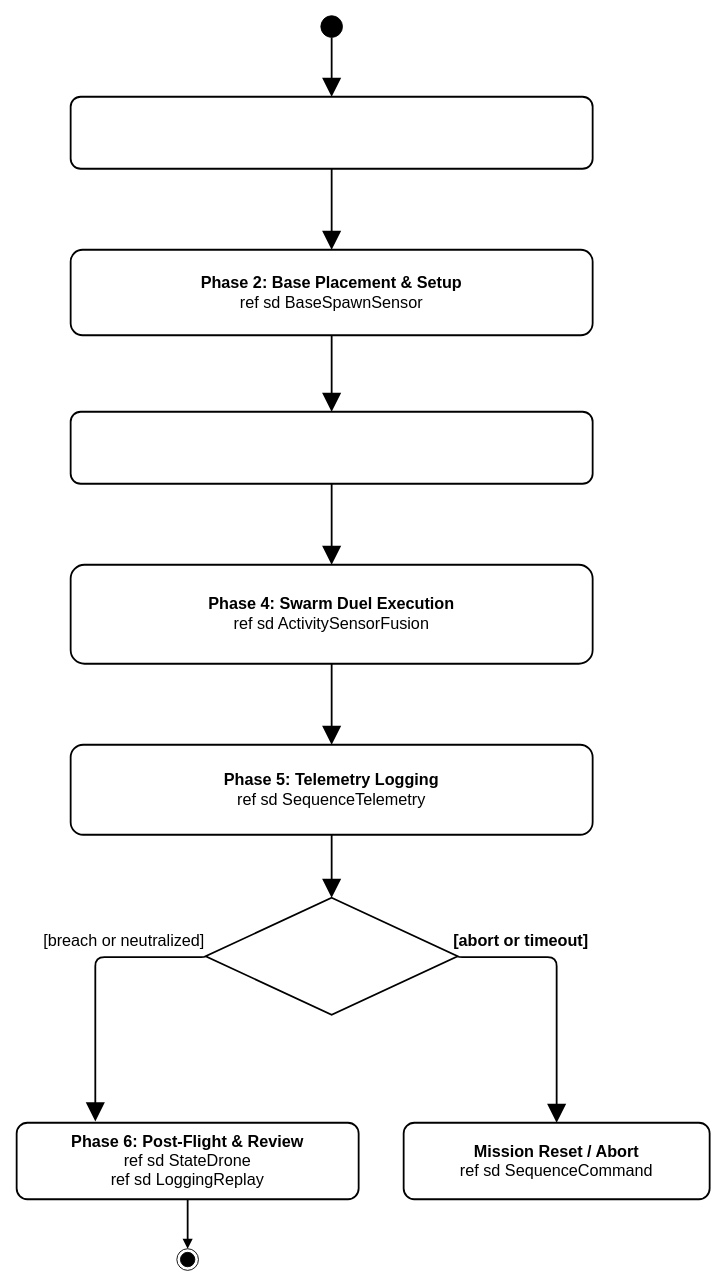
Image size: 725x1286. Some labels were removed from this diagram. Here are the shapes that lost their labels. From the top down, the centre of each, then its label:
At [331,132]: "Phase 1: Environment Boot ref sd StateSystem".
At [331,447]: "Phase 3: Arming & Offboard Prep ref sd SequenceCommand".
At [331,955]: "Termination Condition met?".
